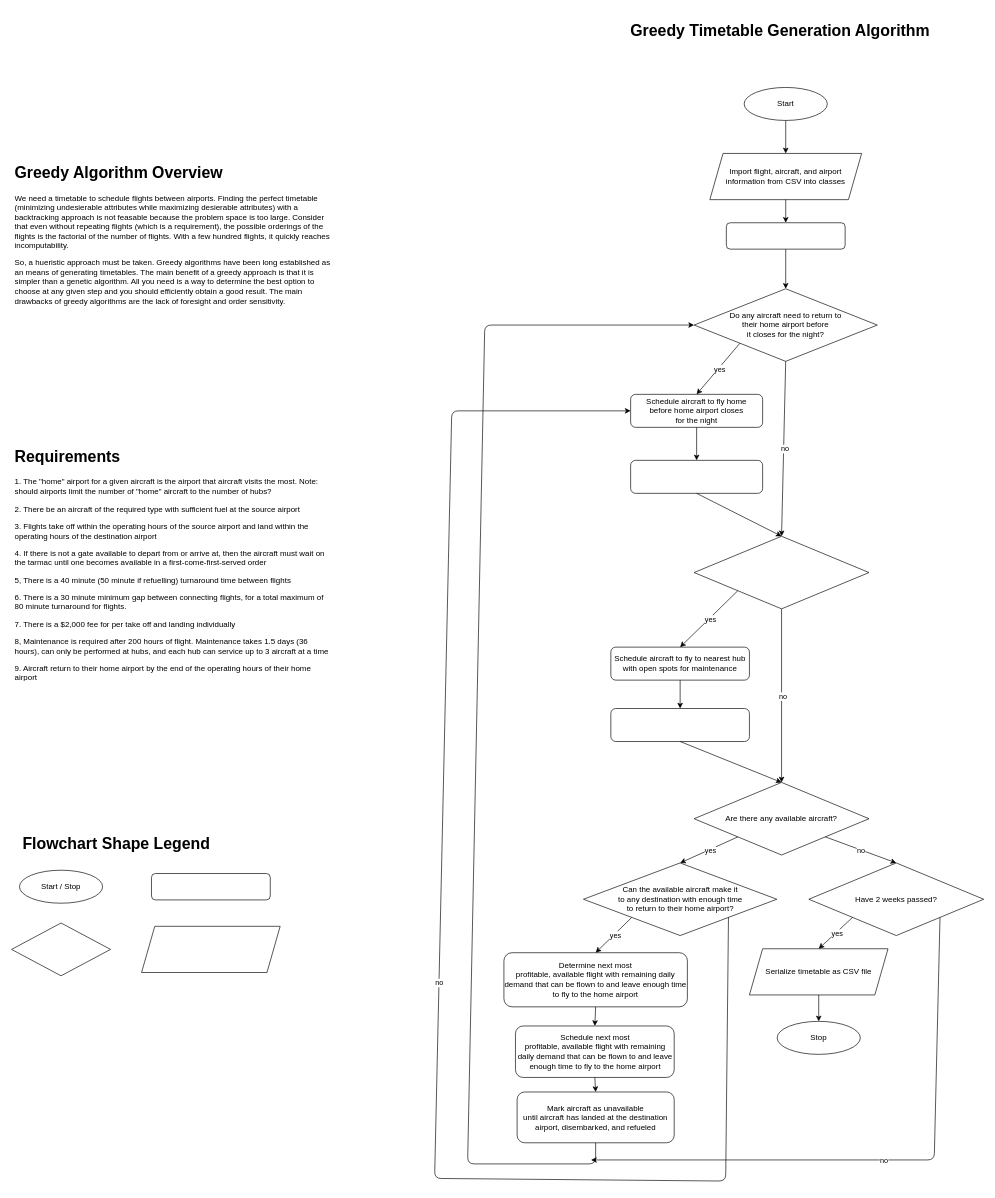
Image size: 995x1198. Some labels were removed from this diagram. The shapes that lost their labels are listed below. From the top down, each one's centre as x and y in pixels, then its label:
the point at 785,235: Sort flights by profit per hour
the point at 696,476: Mark aircraft unavailable for the day
the point at 781,572: Do any aircraft need maintenance?
the point at 679,725: Mark aircraft unavailable for 36 hours (1.5 days) after arrival
the point at 210,886: Process Step
the point at 61,949: Decision
the point at 210,949: Input / Output
